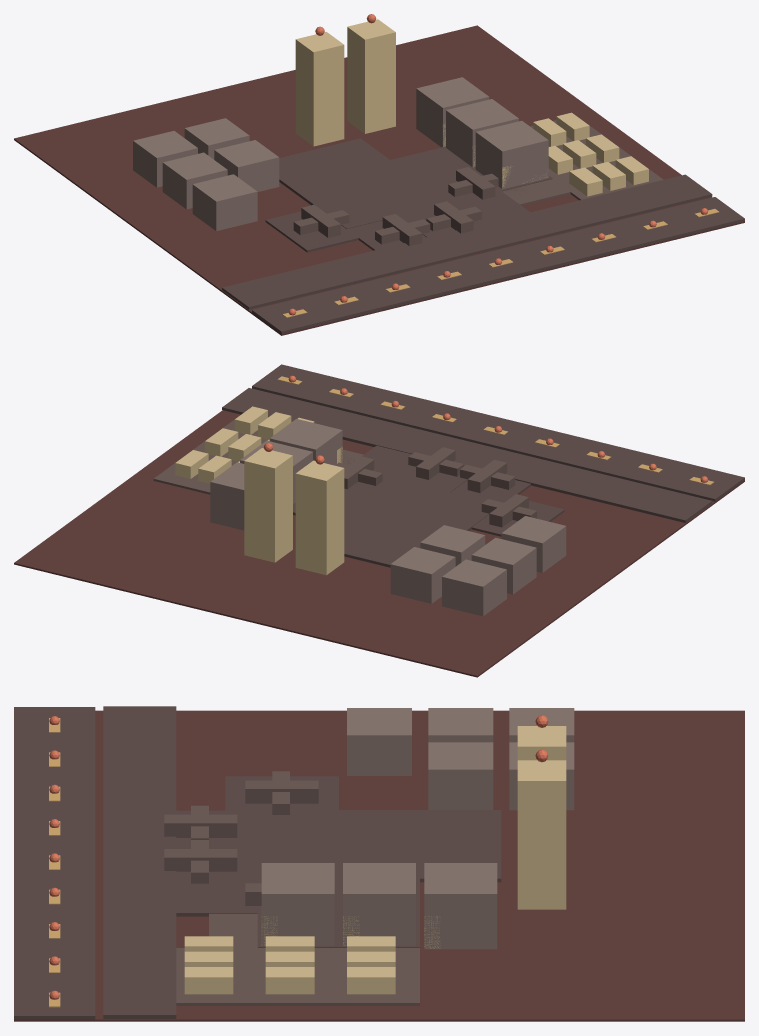
The model's file is stage_24.glb.
3 renders of one model, top to bottom at view 1: azimuth 30°, elevation 25°; view 2: azimuth 150°, elevation 25°; view 3: azimuth 270°, elevation 25°, orthographic. The views are drawn at different scales.
Parts seen in each view (by area): view 1: geometry_0; view 2: geometry_0; view 3: geometry_0.
Part boxes in pixels (bbox=[...]): geometry_0: bbox=[14, 14, 744, 335]; geometry_0: bbox=[14, 364, 744, 677]; geometry_0: bbox=[14, 706, 744, 1021].
Bounding box in the file's own units: 9 × 2.06 × 9.
